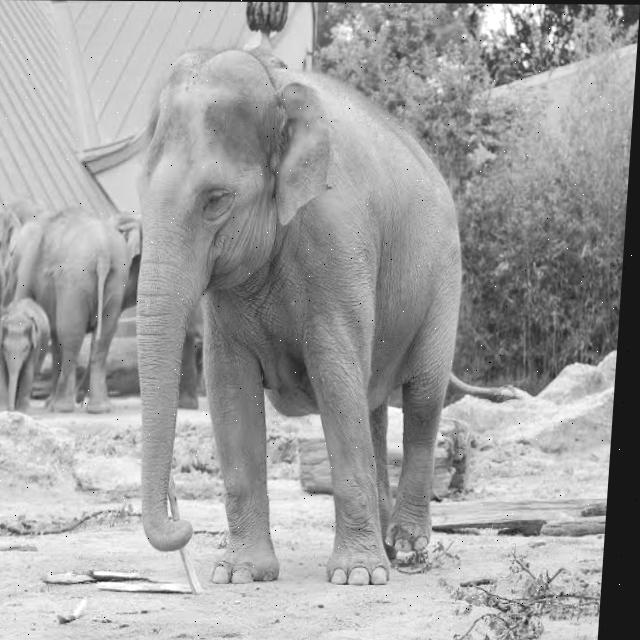Buffalo: (107, 43, 544, 588)
